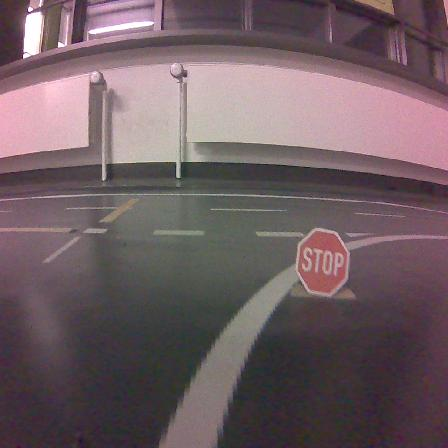STOP: (296, 228, 349, 296)
